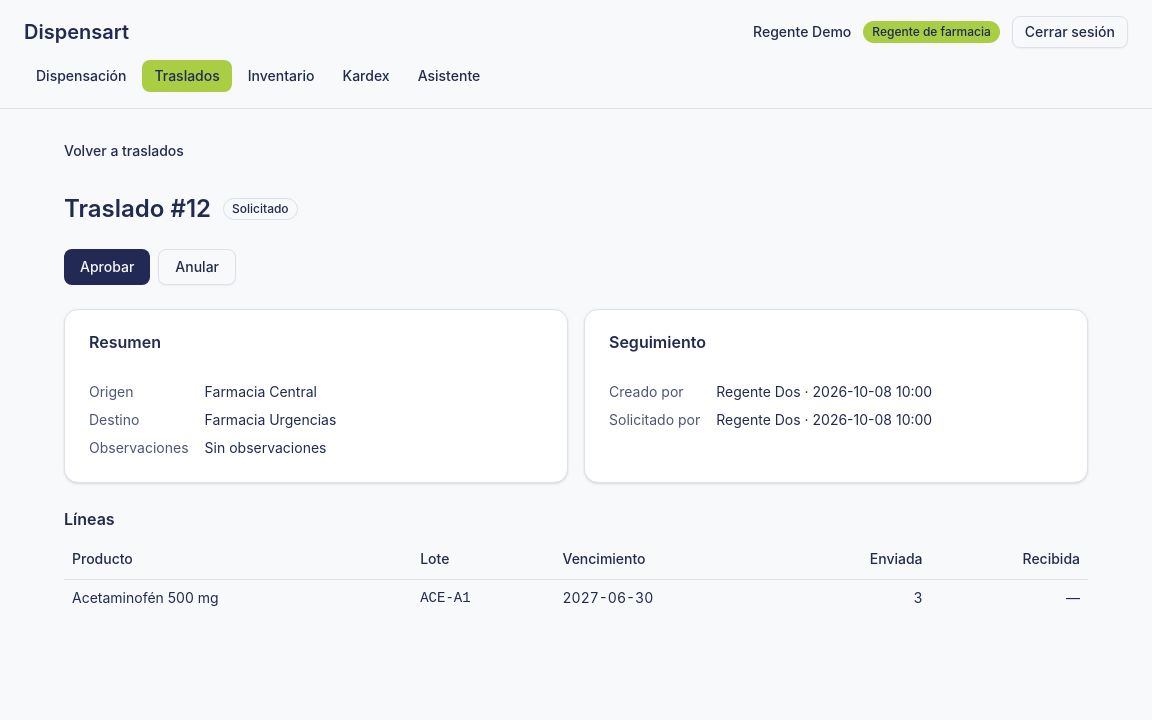
it: Traslados › acciones según estado y rol › Estado cambiado por otro usuario: mensaje y el detalle se recarga con el estado real
The width and height of the screenshot is (1152, 720).
Expected: the heading "Traslado #12" is shown, top-left (64, 193), bottom-right (211, 225)
Click the button "Aprobar".
click(107, 267)  # box top-left (64, 249), bottom-right (150, 285)
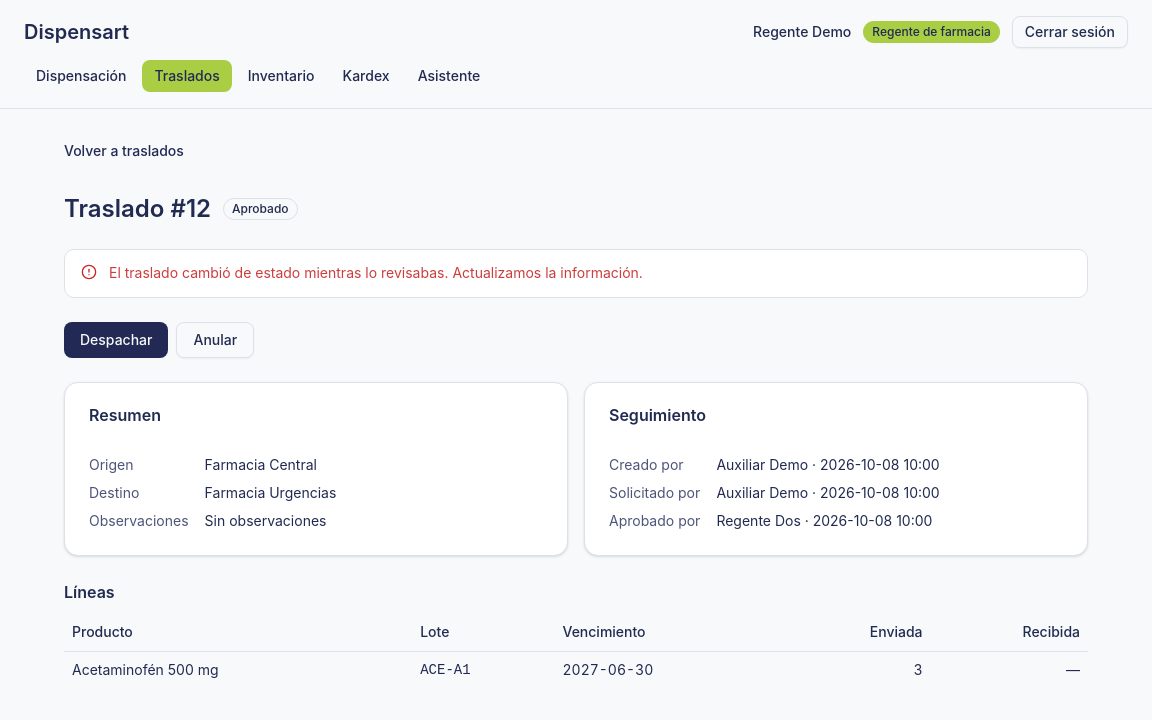
Now the message reads "El traslado cambió de estado mientras lo revisabas. Actualizamos la información.", box top-left (109, 264), bottom-right (643, 281)
Now the text "Aprobado" is shown, box top-left (223, 198), bottom-right (298, 220)
